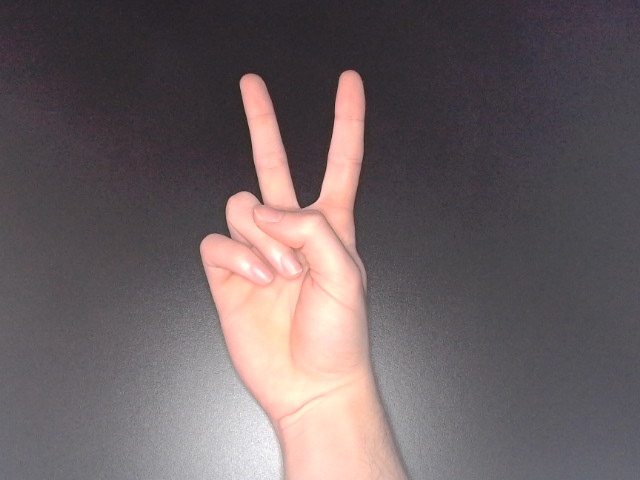v: (196, 66, 382, 431)
